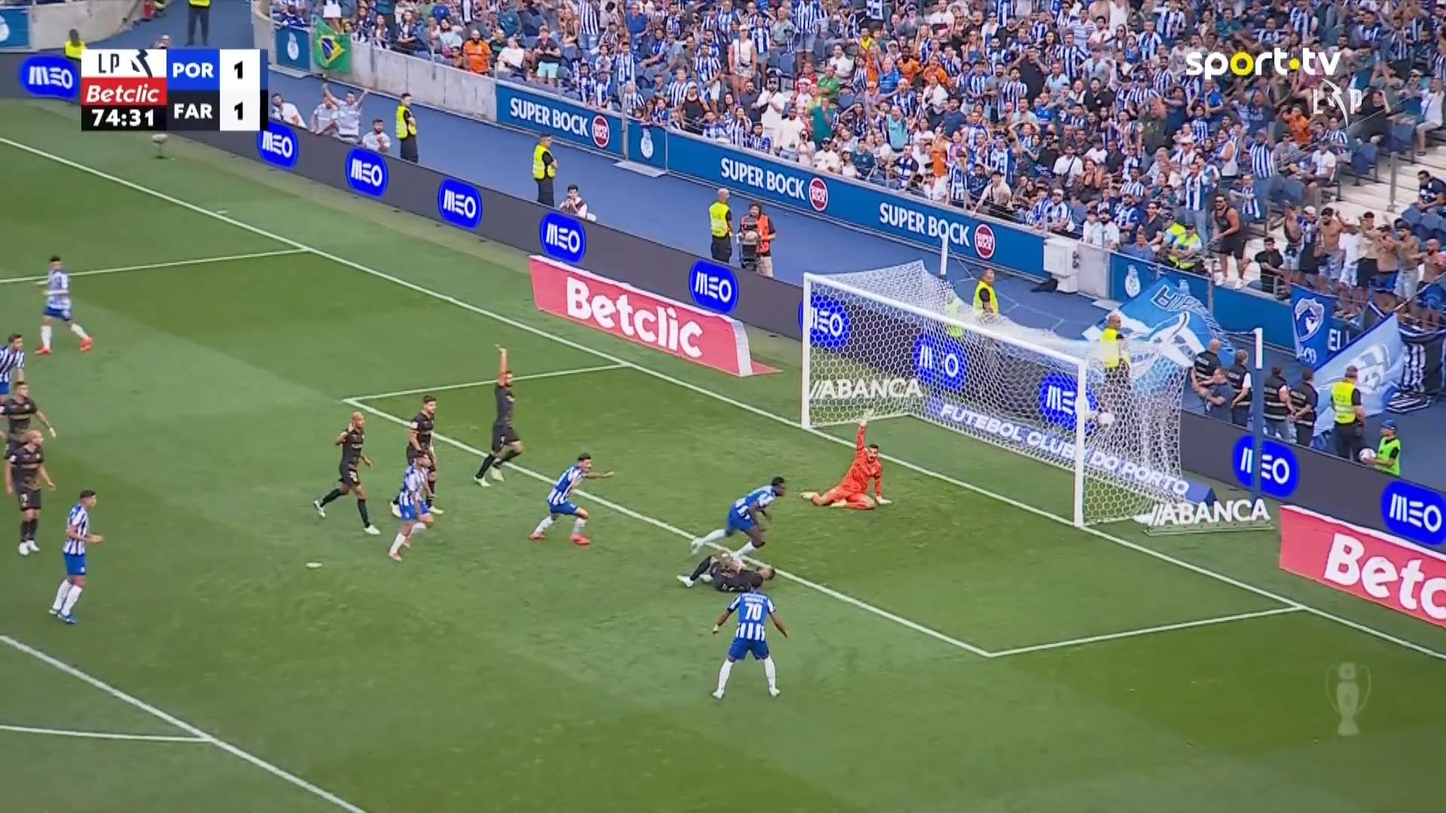ball: (1359, 447, 1376, 463), (1097, 410, 1113, 425)
goalkeeper: (798, 420, 893, 510)
player: (709, 573, 789, 699), (311, 410, 380, 535), (527, 451, 615, 546), (688, 475, 786, 559), (48, 488, 105, 624), (471, 343, 523, 488), (4, 429, 56, 556), (33, 254, 93, 355), (386, 454, 435, 562), (405, 394, 443, 514), (0, 379, 56, 458), (676, 549, 776, 592), (0, 332, 26, 399)
